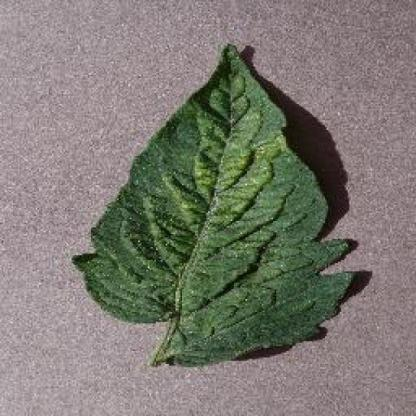Tomato_Spider_Mites: (76, 44, 354, 366)
